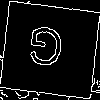G: (24, 25, 66, 77)
